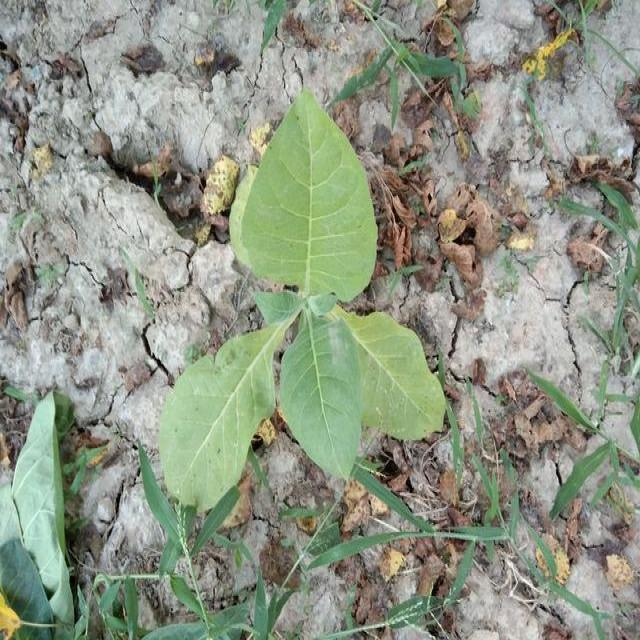crop: (154, 120, 440, 490)
